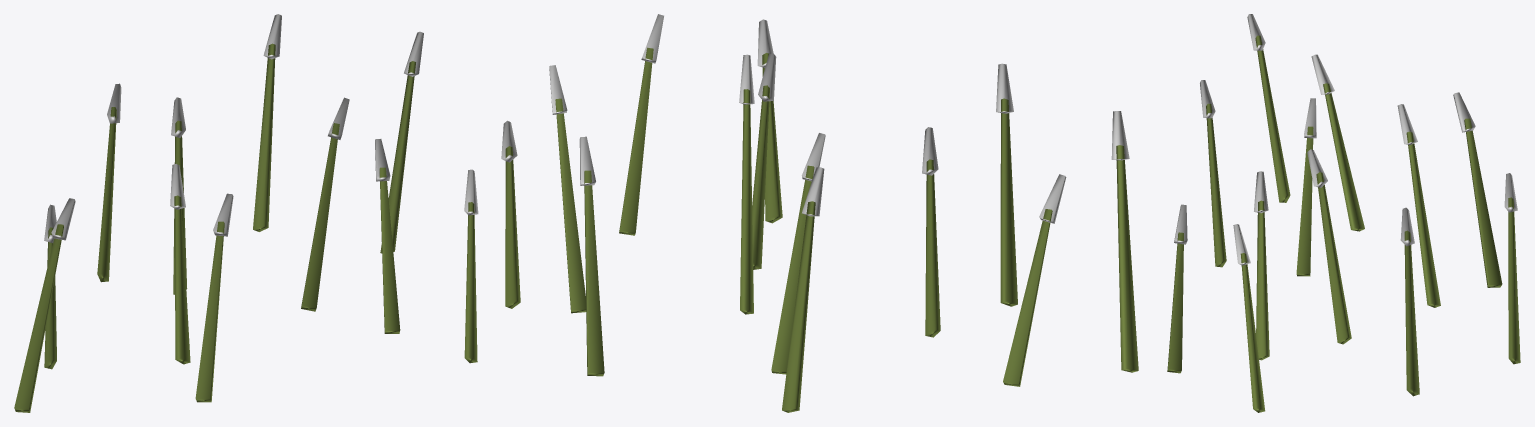
File: farm_grain_stage3.glb
The picture shows the model from 3 angles, left to right: view 1: azimuth 30°, elevation 25°; view 2: azimuth 150°, elevation 25°; view 3: azimuth 270°, elevation 25°; orthographic projection. The views are drawn at different scales.
Visible parts, largest first — view 1: FarmBody, CropAccent; view 2: FarmBody, CropAccent; view 3: FarmBody, CropAccent.
Boxes of the visible parts, <box> form: FarmBody: <box>14,43,520,412</box>; CropAccent: <box>44,14,517,242</box>; FarmBody: <box>555,47,1138,412</box>; CropAccent: <box>549,14,1129,223</box>; FarmBody: <box>1167,35,1520,412</box>; CropAccent: <box>1174,14,1517,265</box>.
Size of the model in its own units: 1.91 by 0.82 by 1.31.
